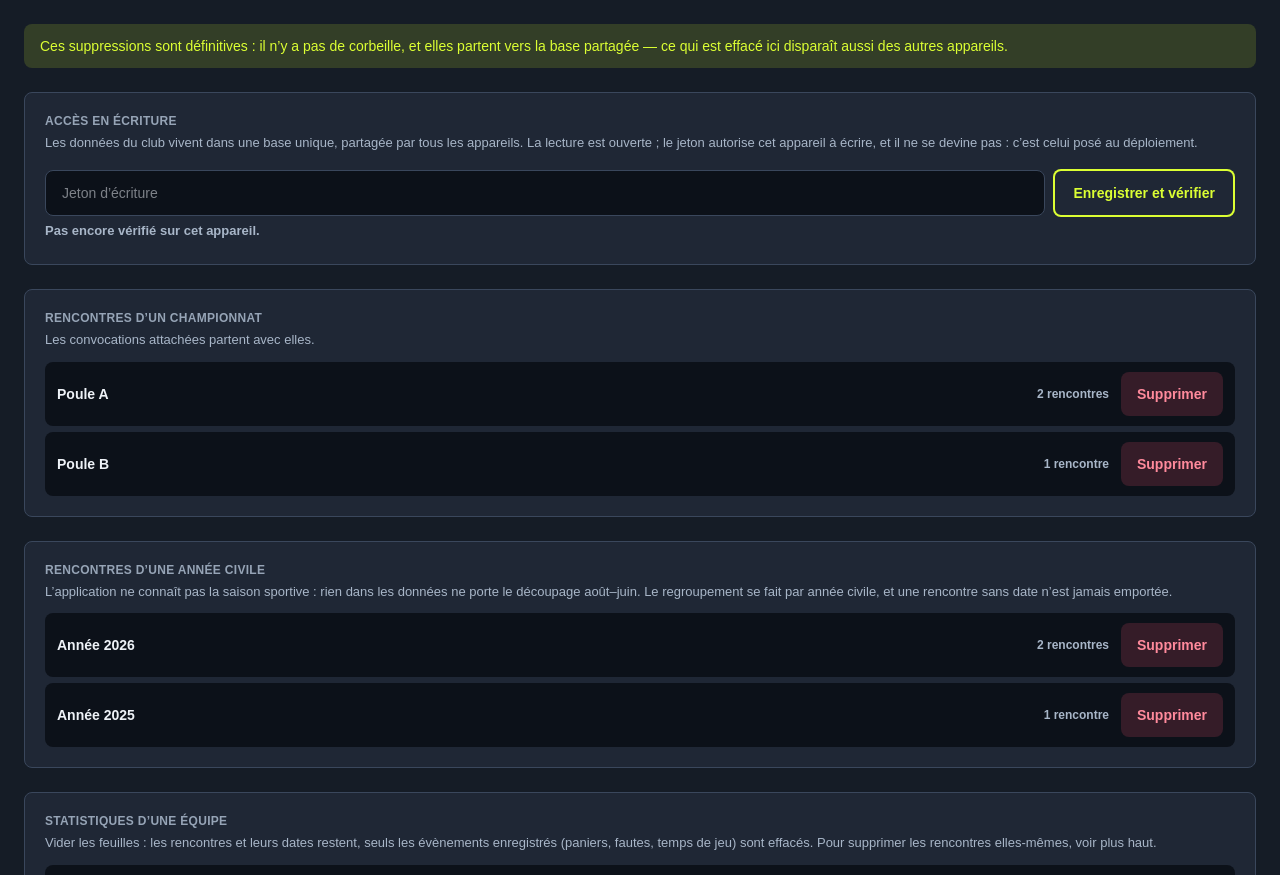
Administration — the counts announced › says in the confirmation what will be destroyed, and how much
What coordinates should you click on to do the following:
click the button with aria-label "Supprimer les rencontres de Poule A"
I would click on:
 (1172, 394)
Its box is [1121,372,1223,416].
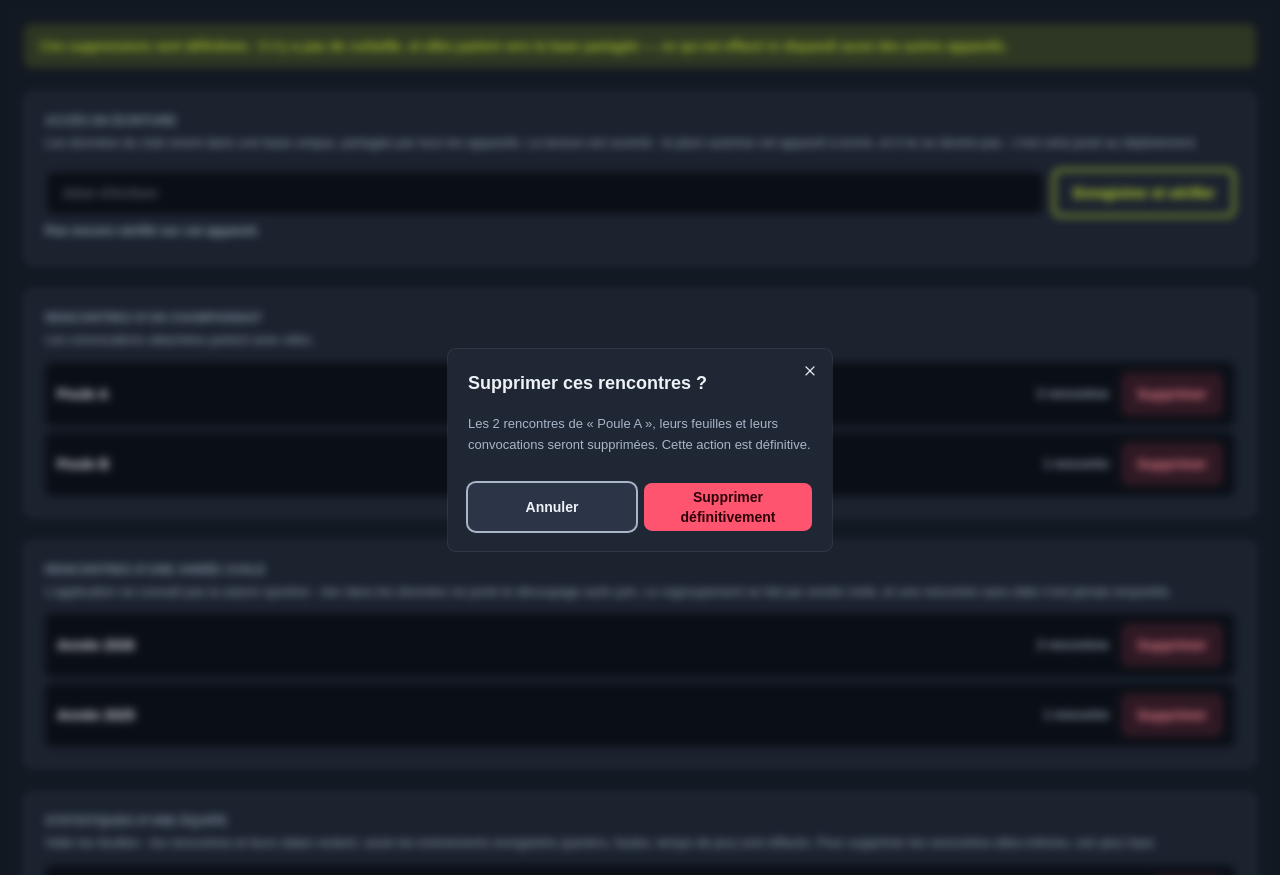
Check: the text "Les 2 rencontres de « Poule A », leurs feuilles et leurs convocations" is shown, box [468,416,810,452]
